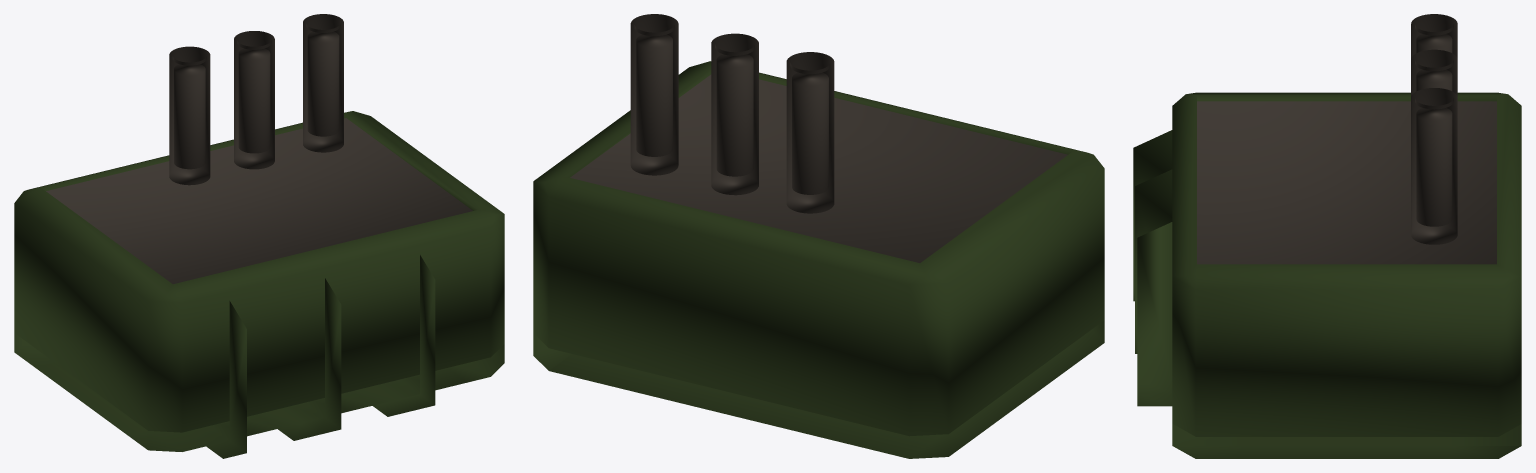
The model's file is hub_green_lvl2.glb.
3 renders of one model, left to right at view 1: azimuth 30°, elevation 25°; view 2: azimuth 150°, elevation 25°; view 3: azimuth 270°, elevation 25°, orthographic. The views are drawn at different scales.
Parts seen in each view (by area): view 1: Cube, Cylinder.004, Cylinder.001, Cylinder.003; view 2: Cube, Cylinder.004, Cylinder.001, Cylinder.003; view 3: Cube, Cylinder.001, Cylinder.003, Cylinder.004.
Boxes of the visible parts, x1,y1,x2,y2 form: Cube: (14,111,504,458); Cylinder.004: (169,46,210,185); Cylinder.001: (303,14,343,152); Cylinder.003: (234,31,274,169); Cube: (533,61,1104,458); Cylinder.004: (786,52,834,213); Cylinder.001: (630,14,678,175); Cylinder.003: (711,33,758,195); Cube: (1133,92,1521,458); Cylinder.001: (1411,88,1457,244); Cylinder.003: (1411,49,1457,96); Cylinder.004: (1411,14,1457,58).
Bounding box in the file's own units: 8 × 6.05 × 6.67.
